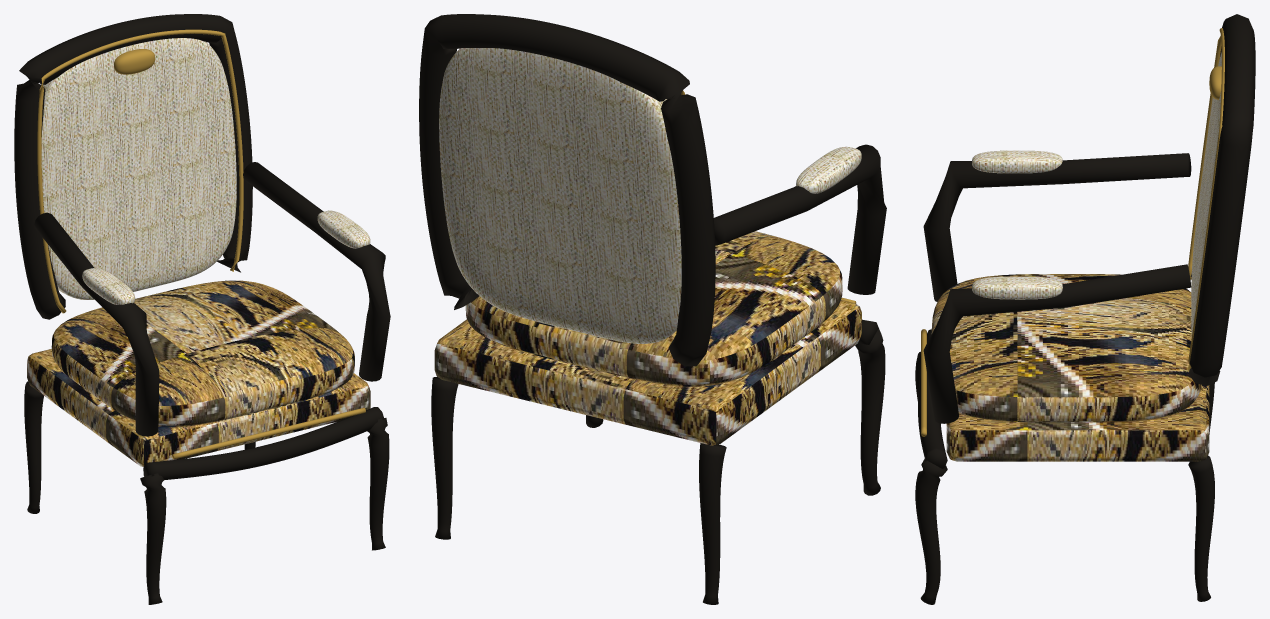
File: talat-royal-tea-set--arm.glb
3 renders of one model, left to right at view 1: azimuth 30°, elevation 25°; view 2: azimuth 150°, elevation 25°; view 3: azimuth 270°, elevation 25°, orthographic. The views are drawn at different scales.
Parts seen in each view (by area): view 1: back, seat, backframe, seatbox, arm1, arm-1, apron, backgold, legf0, legf1, legb-1, armpad1 (+3 smaller); view 2: back, backframe, seat, seatbox, arm-1, legf0, legb-1, legb1, armpad-1; view 3: seat, backframe, seatbox, arm1, arm-1, legf1, legb1, back, armpad1, armpad-1, backgold, apron (+1 smaller).
Part boxes in pixels (box(x1,y1,x2,y2)): back: box(41, 38, 236, 299); seat: box(51, 280, 354, 427); backframe: box(14, 14, 252, 319); seatbox: box(27, 349, 370, 466); arm1: box(243, 162, 390, 381); arm-1: box(34, 212, 159, 436); apron: box(143, 407, 384, 479); backgold: box(37, 29, 243, 313); legf0: box(140, 473, 166, 604); legf1: box(367, 418, 389, 550); legb-1: box(24, 381, 43, 513); armpad1: box(317, 210, 370, 248); back: box(439, 48, 681, 343); backframe: box(419, 14, 715, 366); seat: box(465, 231, 842, 386); seatbox: box(434, 300, 861, 445); arm-1: box(713, 144, 886, 294); legf0: box(855, 328, 885, 495); legb-1: box(699, 443, 726, 604); legb1: box(431, 377, 458, 539); armpad-1: box(796, 146, 861, 193); seat: box(931, 274, 1201, 422); backframe: box(1188, 14, 1255, 385); seatbox: box(946, 385, 1209, 461); arm1: box(923, 264, 1191, 423); arm-1: box(923, 153, 1191, 301); legf1: box(915, 457, 947, 604); legb1: box(1188, 455, 1214, 601); back: box(1191, 52, 1221, 336); armpad1: box(972, 276, 1062, 299); armpad-1: box(972, 150, 1062, 173); backgold: box(1187, 28, 1224, 370); apron: box(918, 329, 947, 468).
Bounding box in the file's own units: 0.66 × 1.08 × 0.6736.
Materials: 4 (2 with a texture image).
